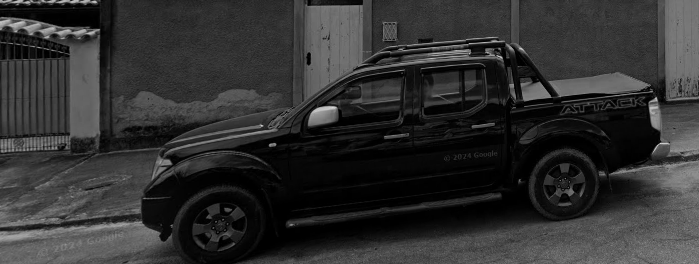car: (143, 50, 673, 264)
